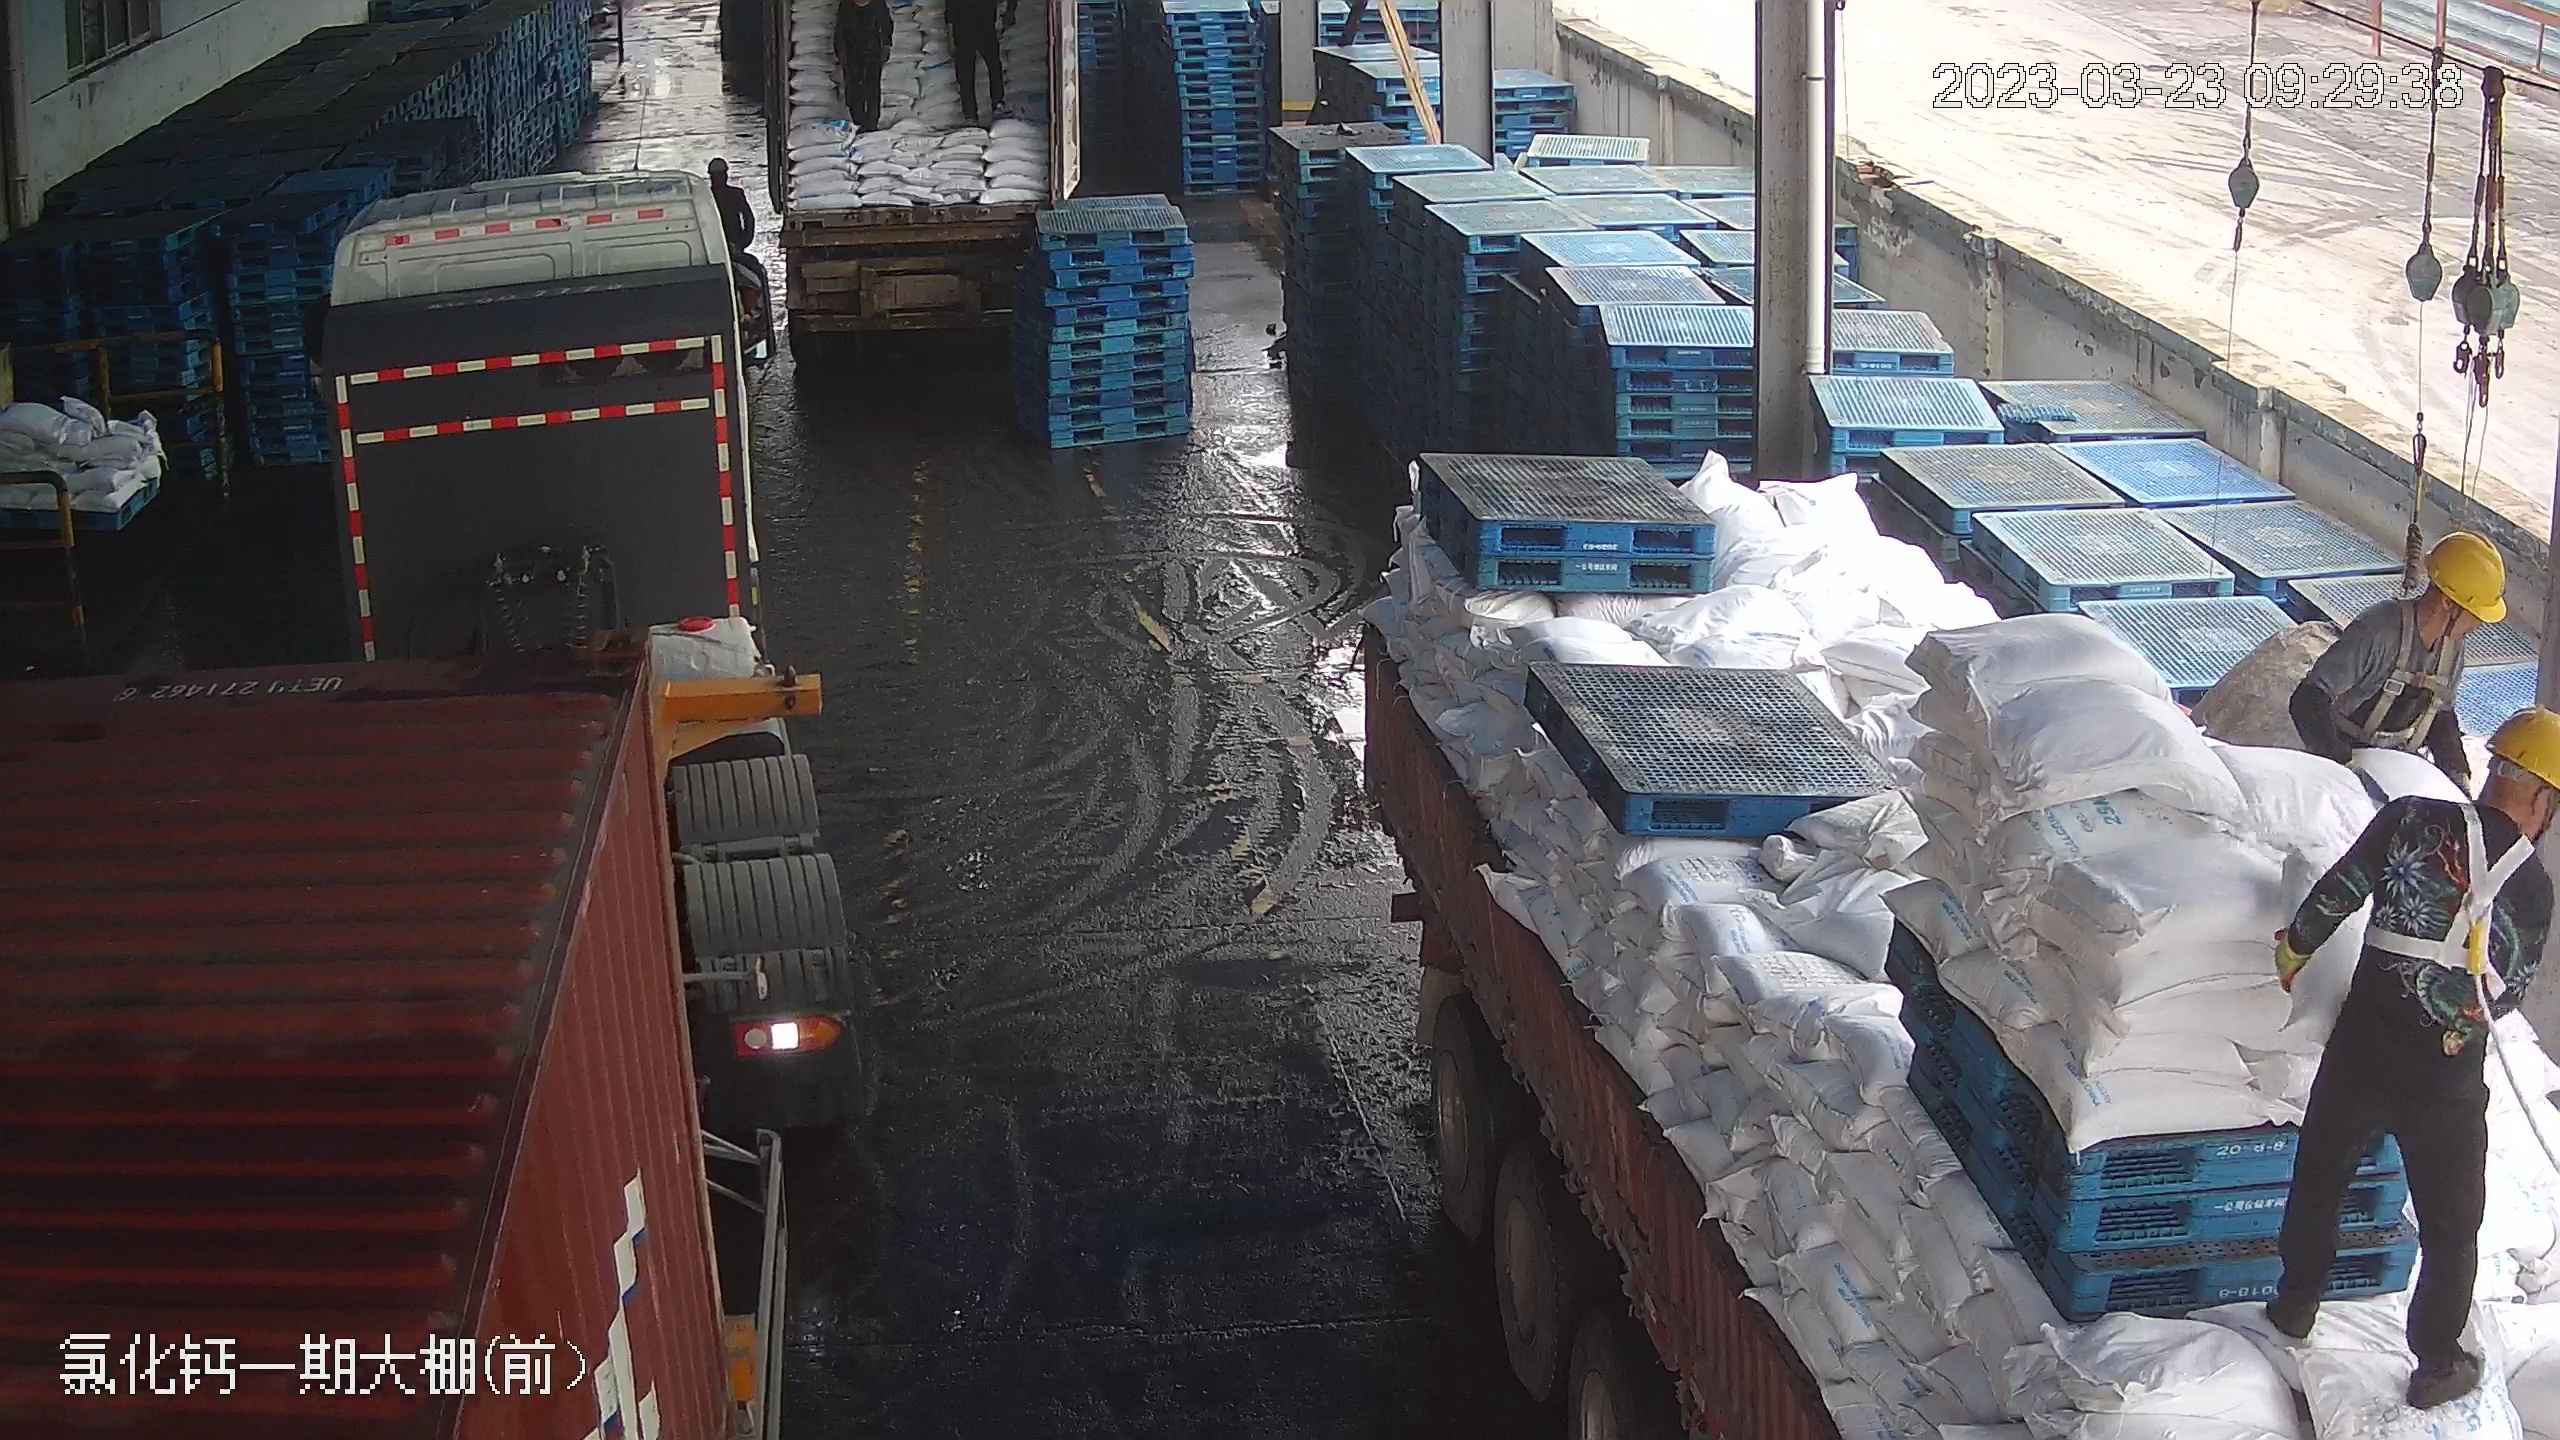belt: (2356, 801, 2537, 1004), (2357, 602, 2463, 744)
head: (2364, 699, 2556, 919), (2323, 525, 2508, 705)
helmet: (2421, 525, 2508, 623), (2480, 701, 2560, 801)
people: (2253, 691, 2557, 1409), (829, 1, 906, 132), (942, 1, 1017, 133)
truck: (1300, 424, 2553, 1428), (1, 164, 844, 1440), (739, 2, 1082, 336)
